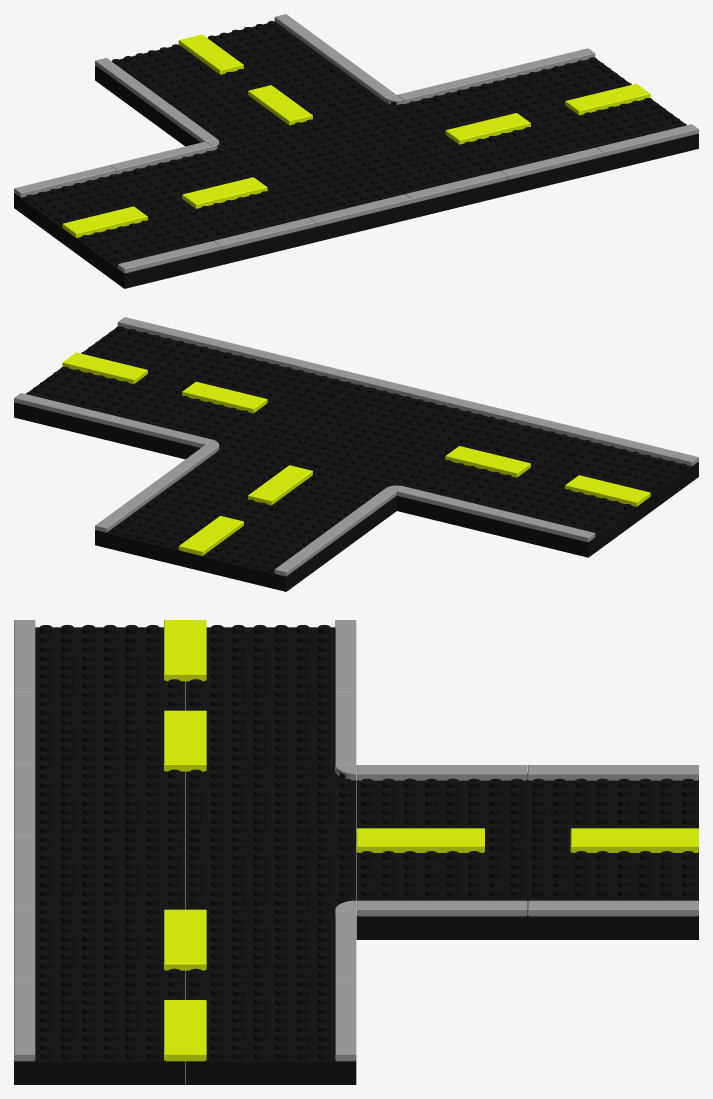
The model's file is T-Junction.fbx.
The picture shows the model from 3 angles, top to bottom: view 1: azimuth 30°, elevation 25°; view 2: azimuth 150°, elevation 25°; view 3: azimuth 270°, elevation 25°; orthographic projection. The views are drawn at different scales.
Parts seen in each view (by area): view 1: part.014, part.018, part.016, part.015, part.021, part.019, part.020, part.017, part.025, part.024, part.023, part.022 (+16 smaller); view 2: part.019, part.021, part.017, part.015, part.020, part.014, part.018, part.016, part.022, part.025, part.023, part.024 (+16 smaller); view 3: part.020, part.015, part.017, part.016, part.014, part.019, part.018, part.021, part.027, part.026, part.013, part.012 (+16 smaller).
Part boxes in pixels (left/top/right/bottom): part.014: left=266, top=139, right=507, bottom=241; part.018: left=69, top=191, right=315, bottom=288; part.016: left=453, top=98, right=698, bottom=195; part.015: left=211, top=101, right=450, bottom=185; part.021: left=95, top=44, right=294, bottom=146; part.019: left=14, top=151, right=248, bottom=247; part.020: left=207, top=21, right=385, bottom=122; part.017: left=403, top=57, right=631, bottom=139; part.025: left=62, top=206, right=147, bottom=237; part.024: left=182, top=177, right=267, bottom=208; part.023: left=445, top=113, right=530, bottom=144; part.022: left=565, top=83, right=650, bottom=115; part.019: left=397, top=460, right=643, bottom=557; part.021: left=190, top=475, right=396, bottom=591; part.017: left=14, top=366, right=259, bottom=459; part.015: left=216, top=408, right=447, bottom=495; part.020: left=95, top=451, right=283, bottom=568; part.014: left=262, top=373, right=501, bottom=454; part.018: left=464, top=419, right=698, bottom=516; part.016: left=81, top=326, right=309, bottom=408; part.022: left=62, top=352, right=147, bottom=383; part.025: left=565, top=475, right=650, bottom=506; part.023: left=182, top=381, right=267, bottom=413; part.024: left=445, top=446, right=530, bottom=477; part.020: left=356, top=842, right=698, bottom=939; part.015: left=185, top=769, right=356, bottom=916; part.017: left=185, top=914, right=356, bottom=1084; part.016: left=14, top=914, right=184, bottom=1084; part.014: left=35, top=769, right=184, bottom=916; part.019: left=185, top=625, right=335, bottom=772; part.018: left=35, top=625, right=184, bottom=772; part.021: left=356, top=772, right=698, bottom=844; part.027: left=356, top=828, right=484, bottom=852; part.026: left=570, top=828, right=698, bottom=852; part.013: left=356, top=900, right=527, bottom=916; part.012: left=528, top=900, right=698, bottom=916.
Size of the model in its own units: 38392 by 1276 by 25592.
